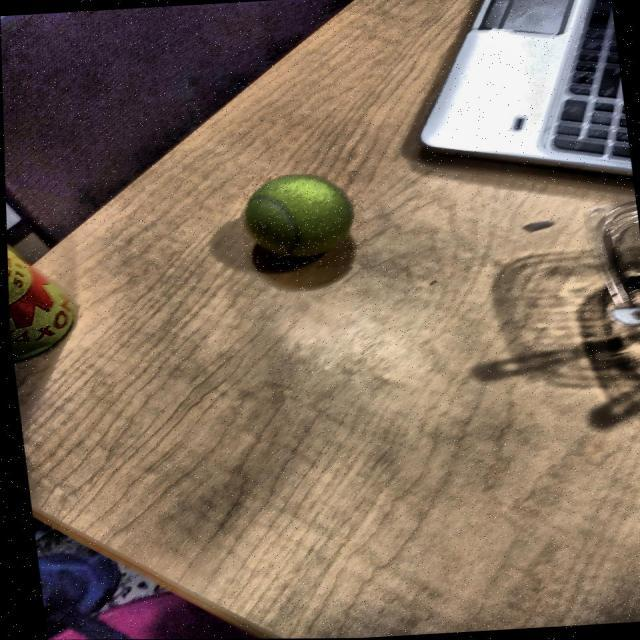tennis-ball: (236, 171, 372, 274)
